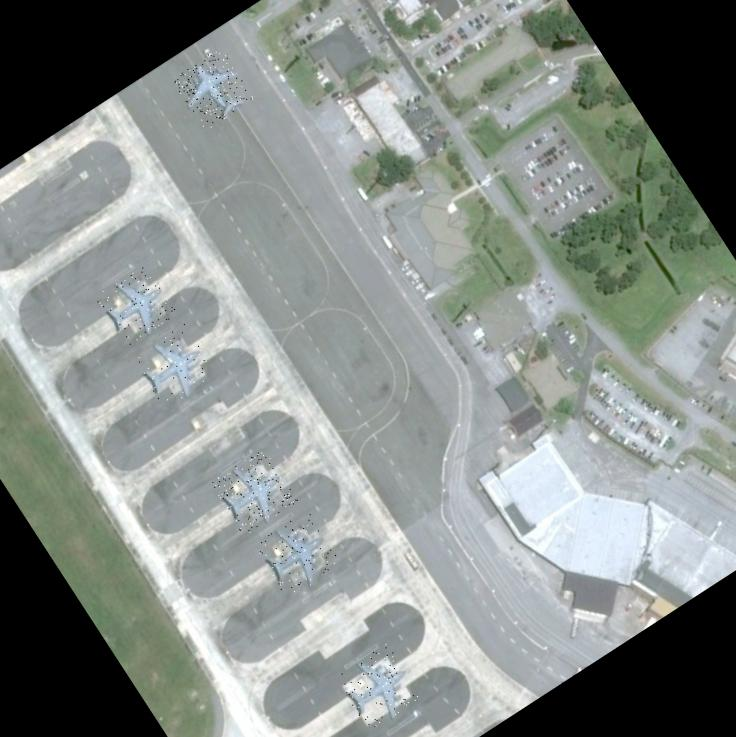A3: (252, 509, 343, 599), (333, 641, 423, 731), (209, 446, 298, 536), (130, 322, 218, 409), (92, 262, 180, 348), (170, 46, 254, 130)
